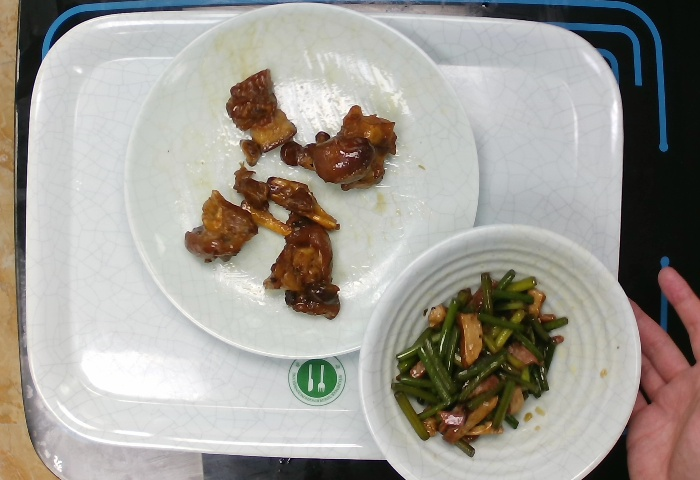JYsf-Da_Yuan_Pan: (118, 1, 484, 364)
JYsf-Xiao_Tang_Wan: (354, 220, 644, 480)
